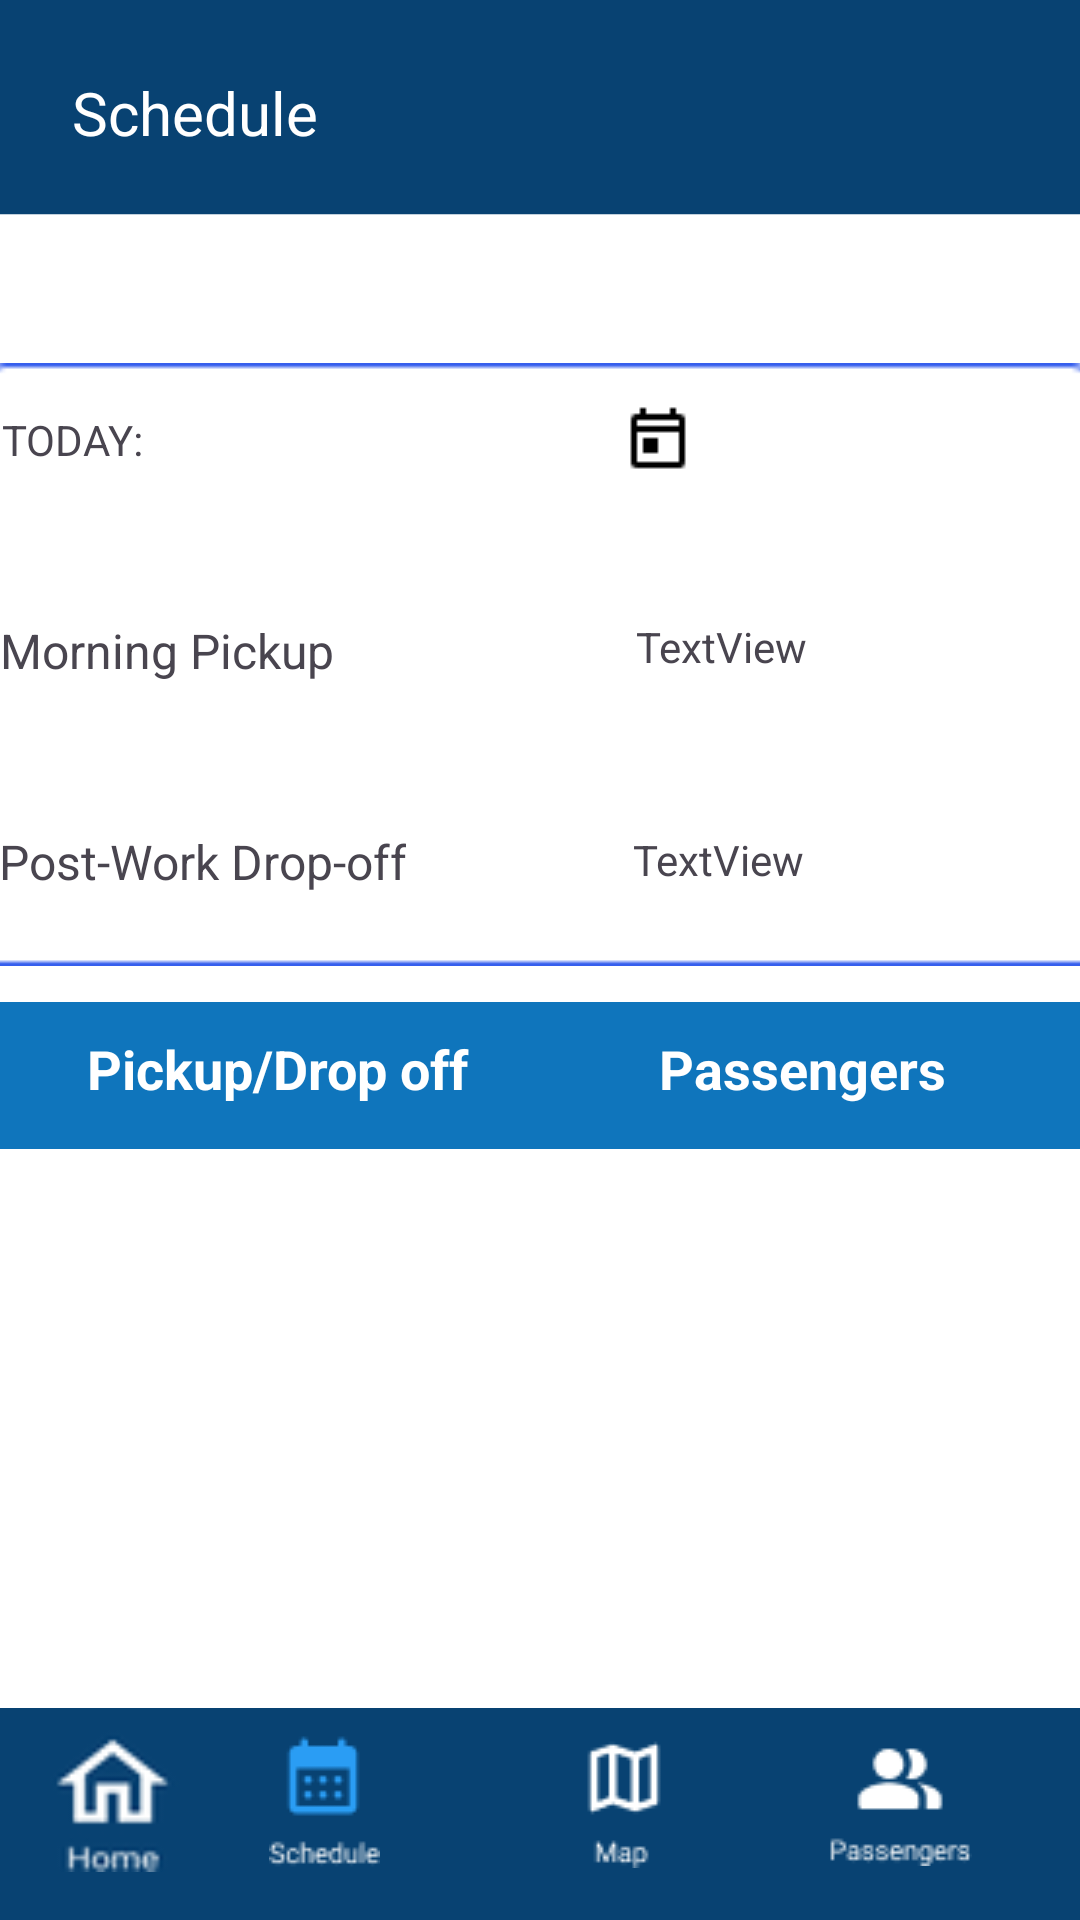

Screen size 1080 × 1920. Icon name, then its center in pixels as [x,y]:
today: [658,438]
